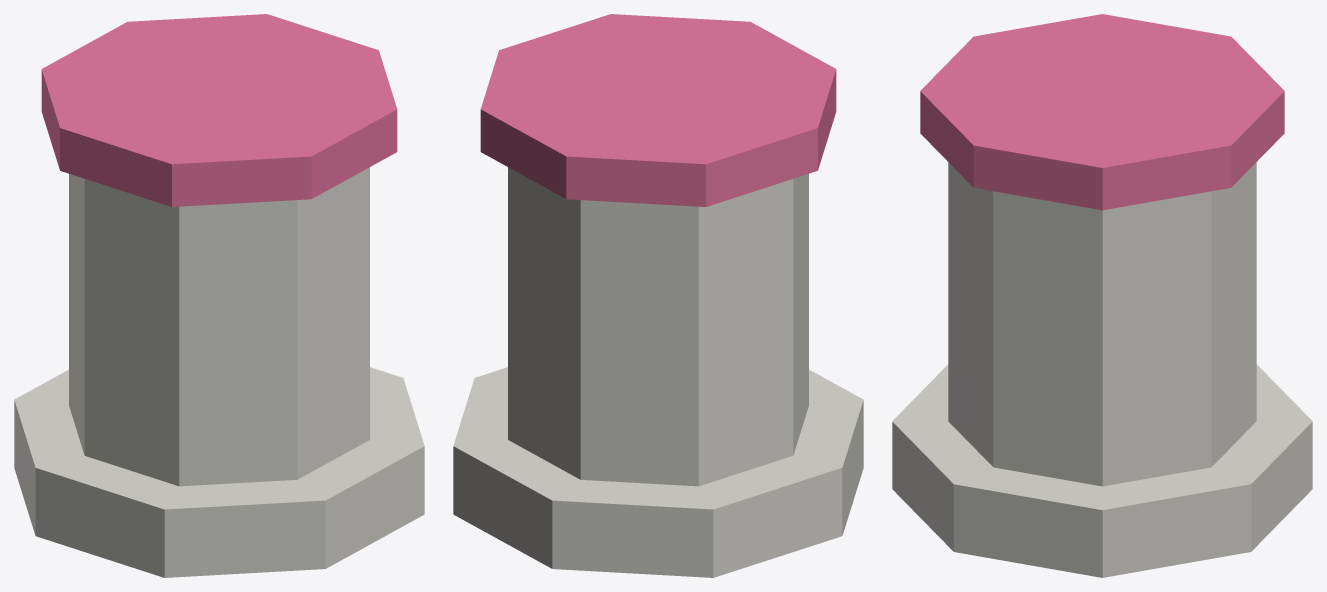
3 renders of one model, left to right at view 1: azimuth 30°, elevation 25°; view 2: azimuth 150°, elevation 25°; view 3: azimuth 270°, elevation 25°, orthographic.
Visible parts, largest first — view 1: Body, Top, Base; view 2: Body, Top, Base; view 3: Body, Top, Base.
Boxes of the visible parts, <box> form: Body: <box>69,167,369,486</box>; Top: <box>41,14,397,206</box>; Base: <box>14,367,424,577</box>; Body: <box>508,167,808,486</box>; Top: <box>480,14,836,206</box>; Base: <box>453,367,863,577</box>; Body: <box>948,162,1256,486</box>; Top: <box>920,14,1284,210</box>; Base: <box>892,364,1312,577</box>.
Size of the model in its own units: 0.9 by 0.94 by 0.9.
